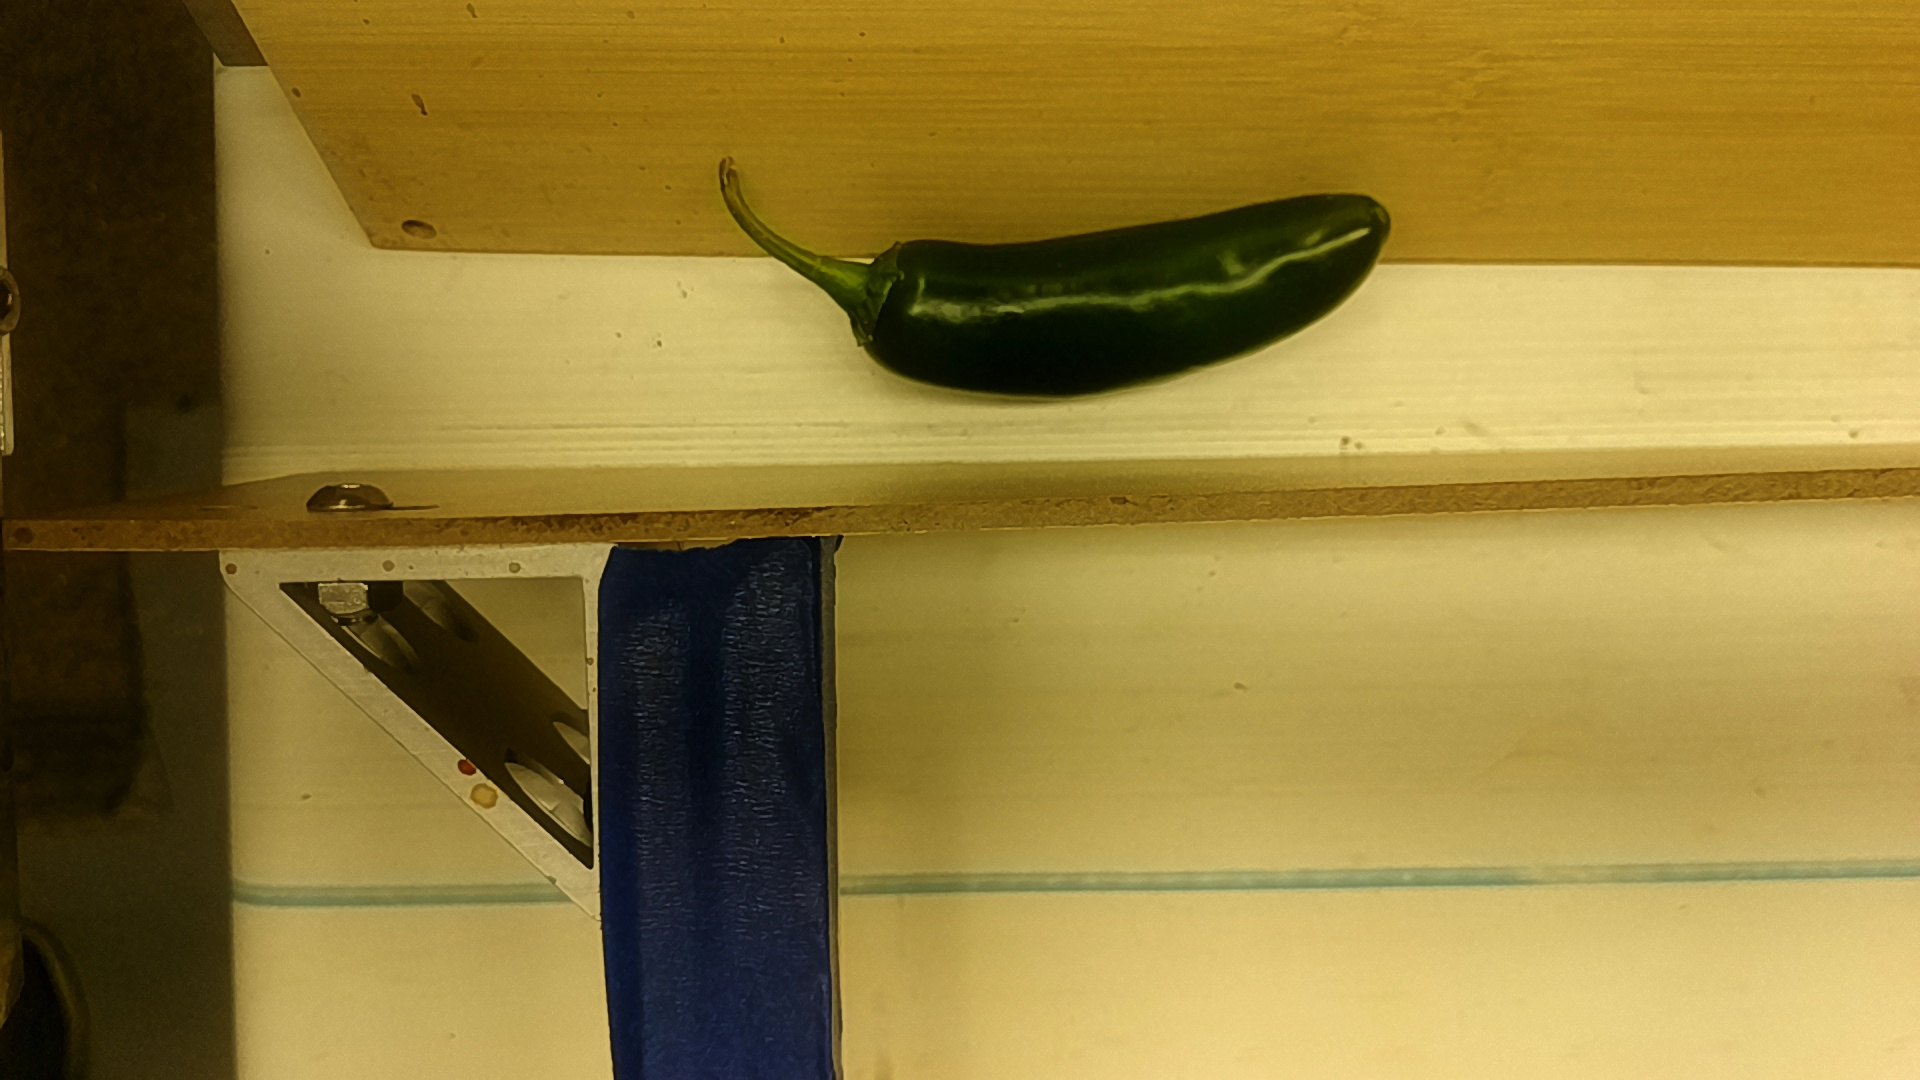Cut Point: (847, 229, 927, 386)
